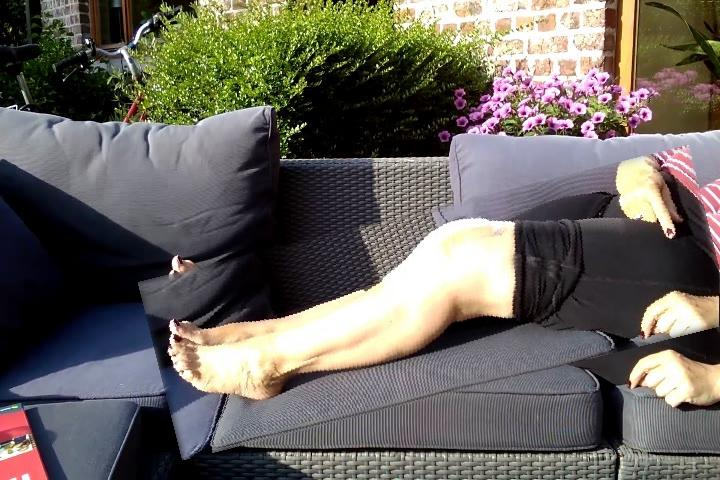lower_body: (146, 179, 720, 428)
